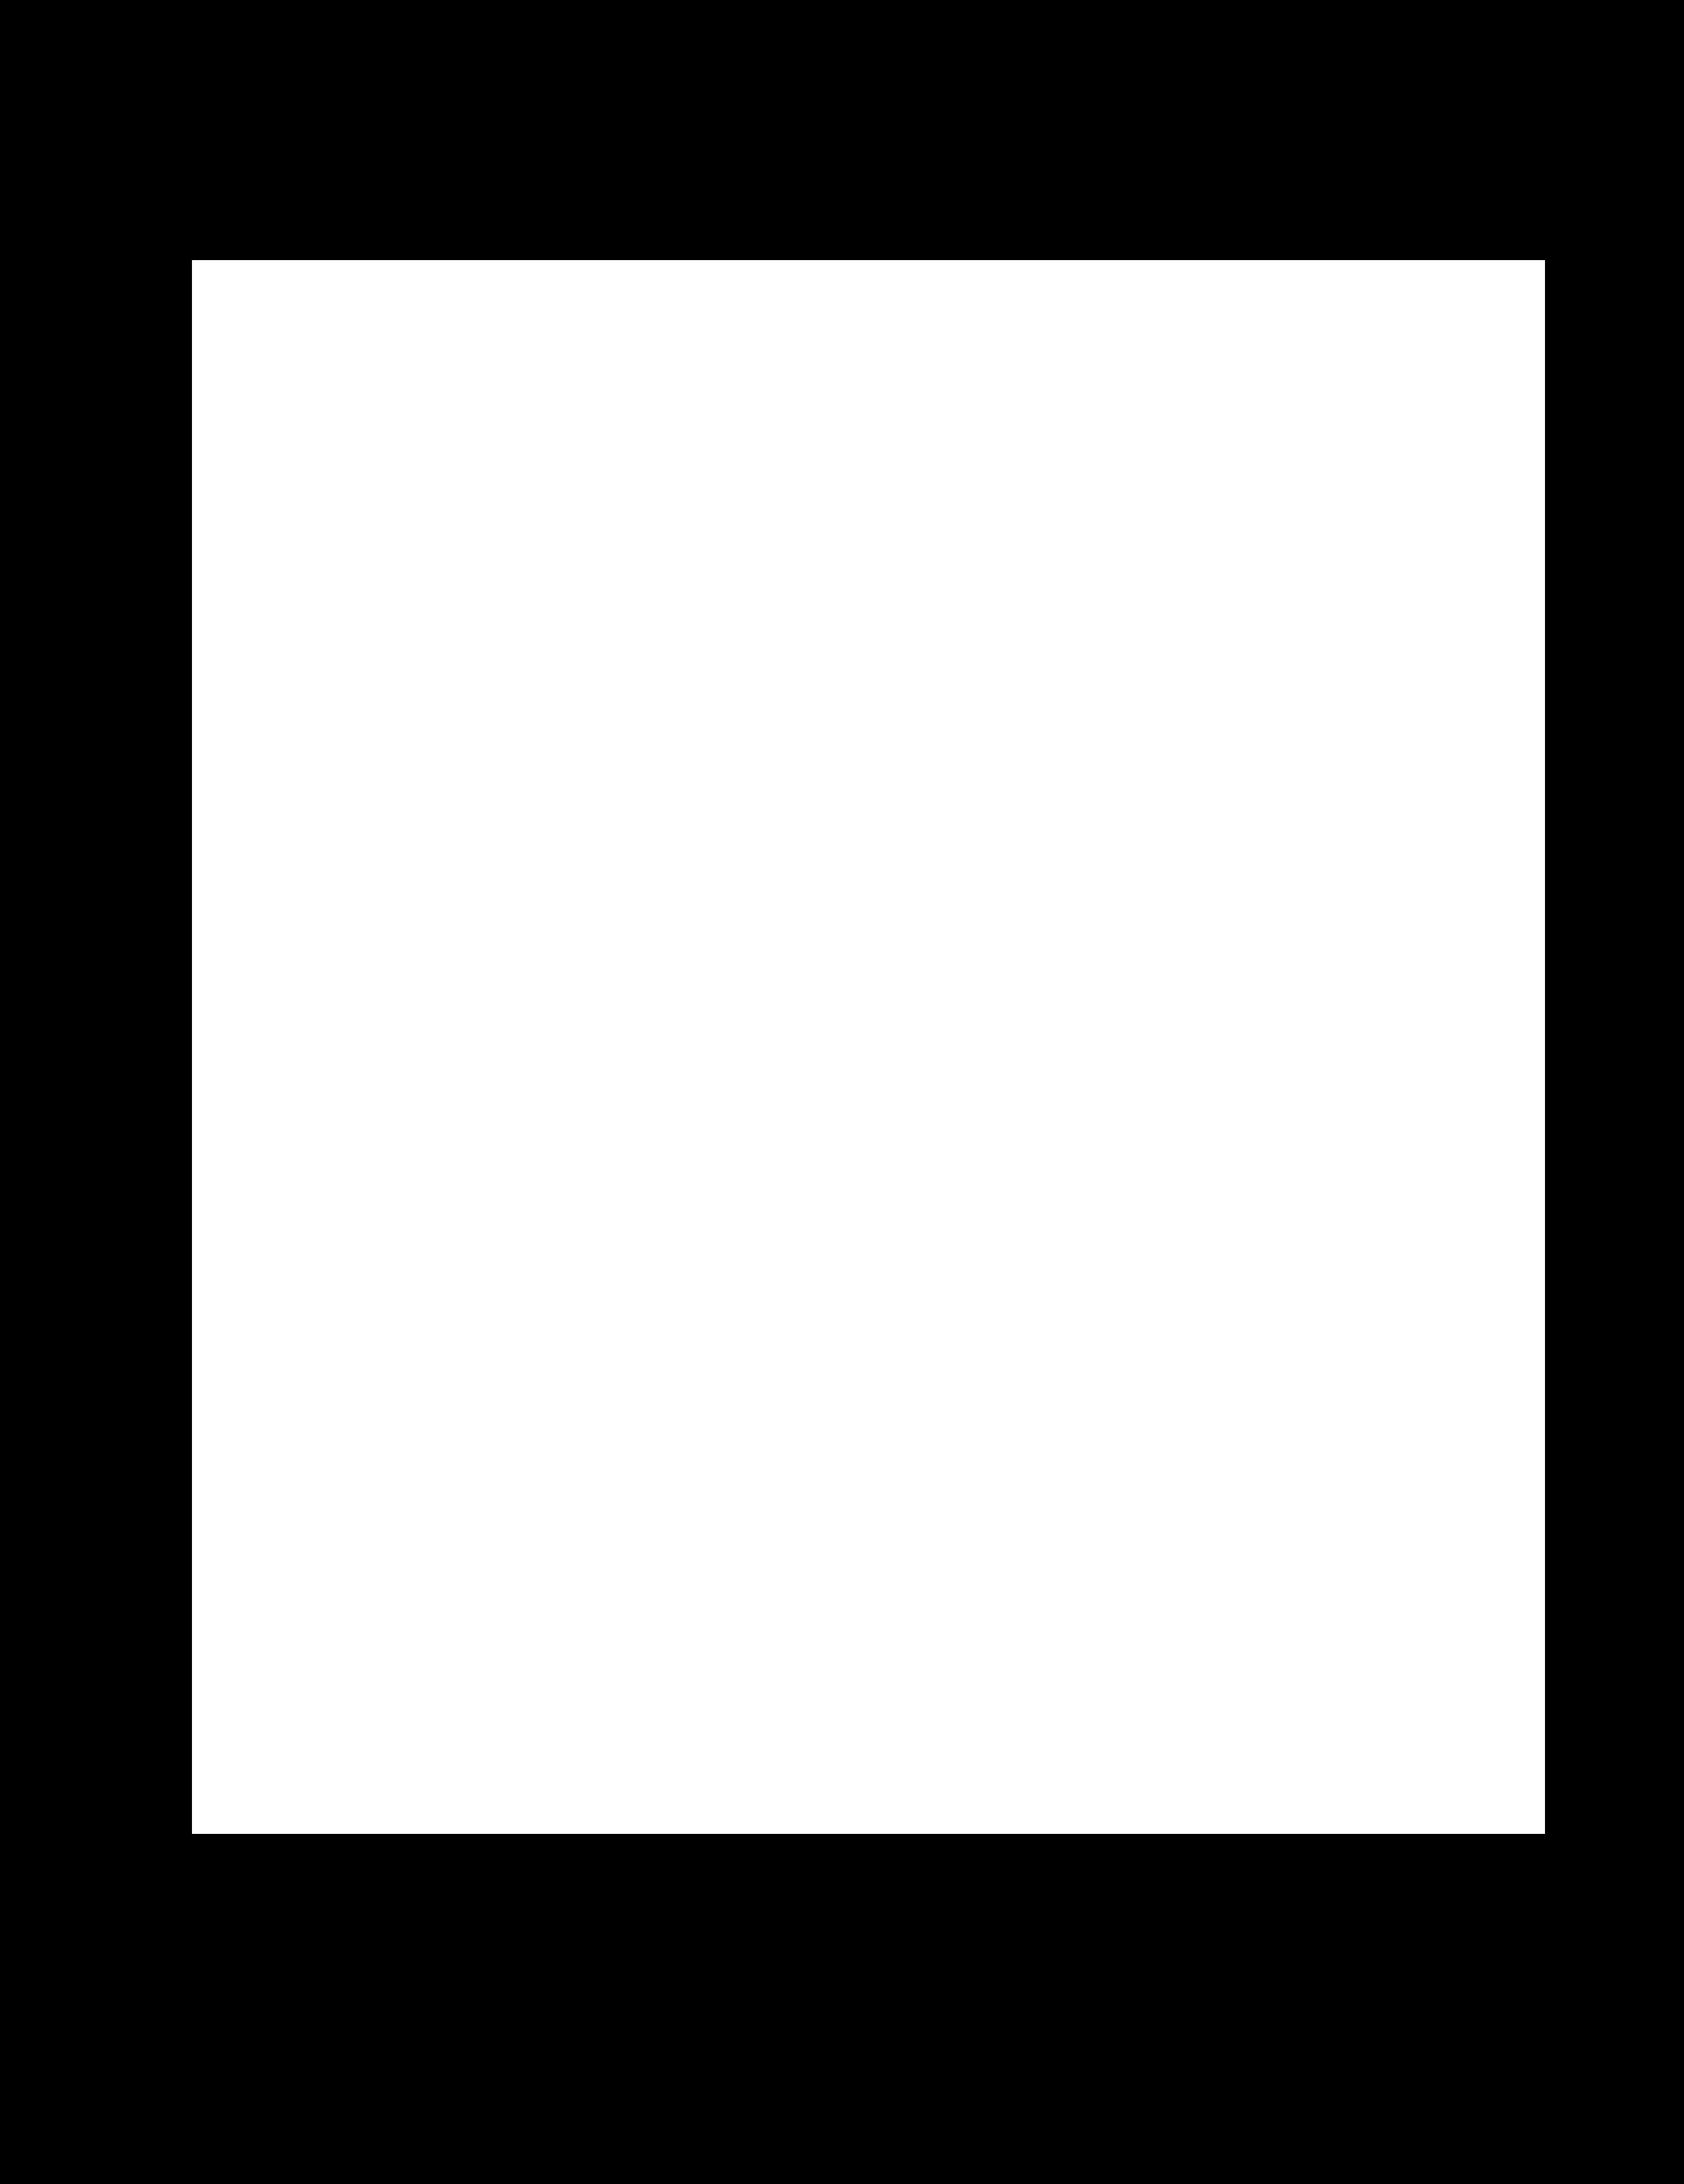table: (193, 260, 1544, 1834)
